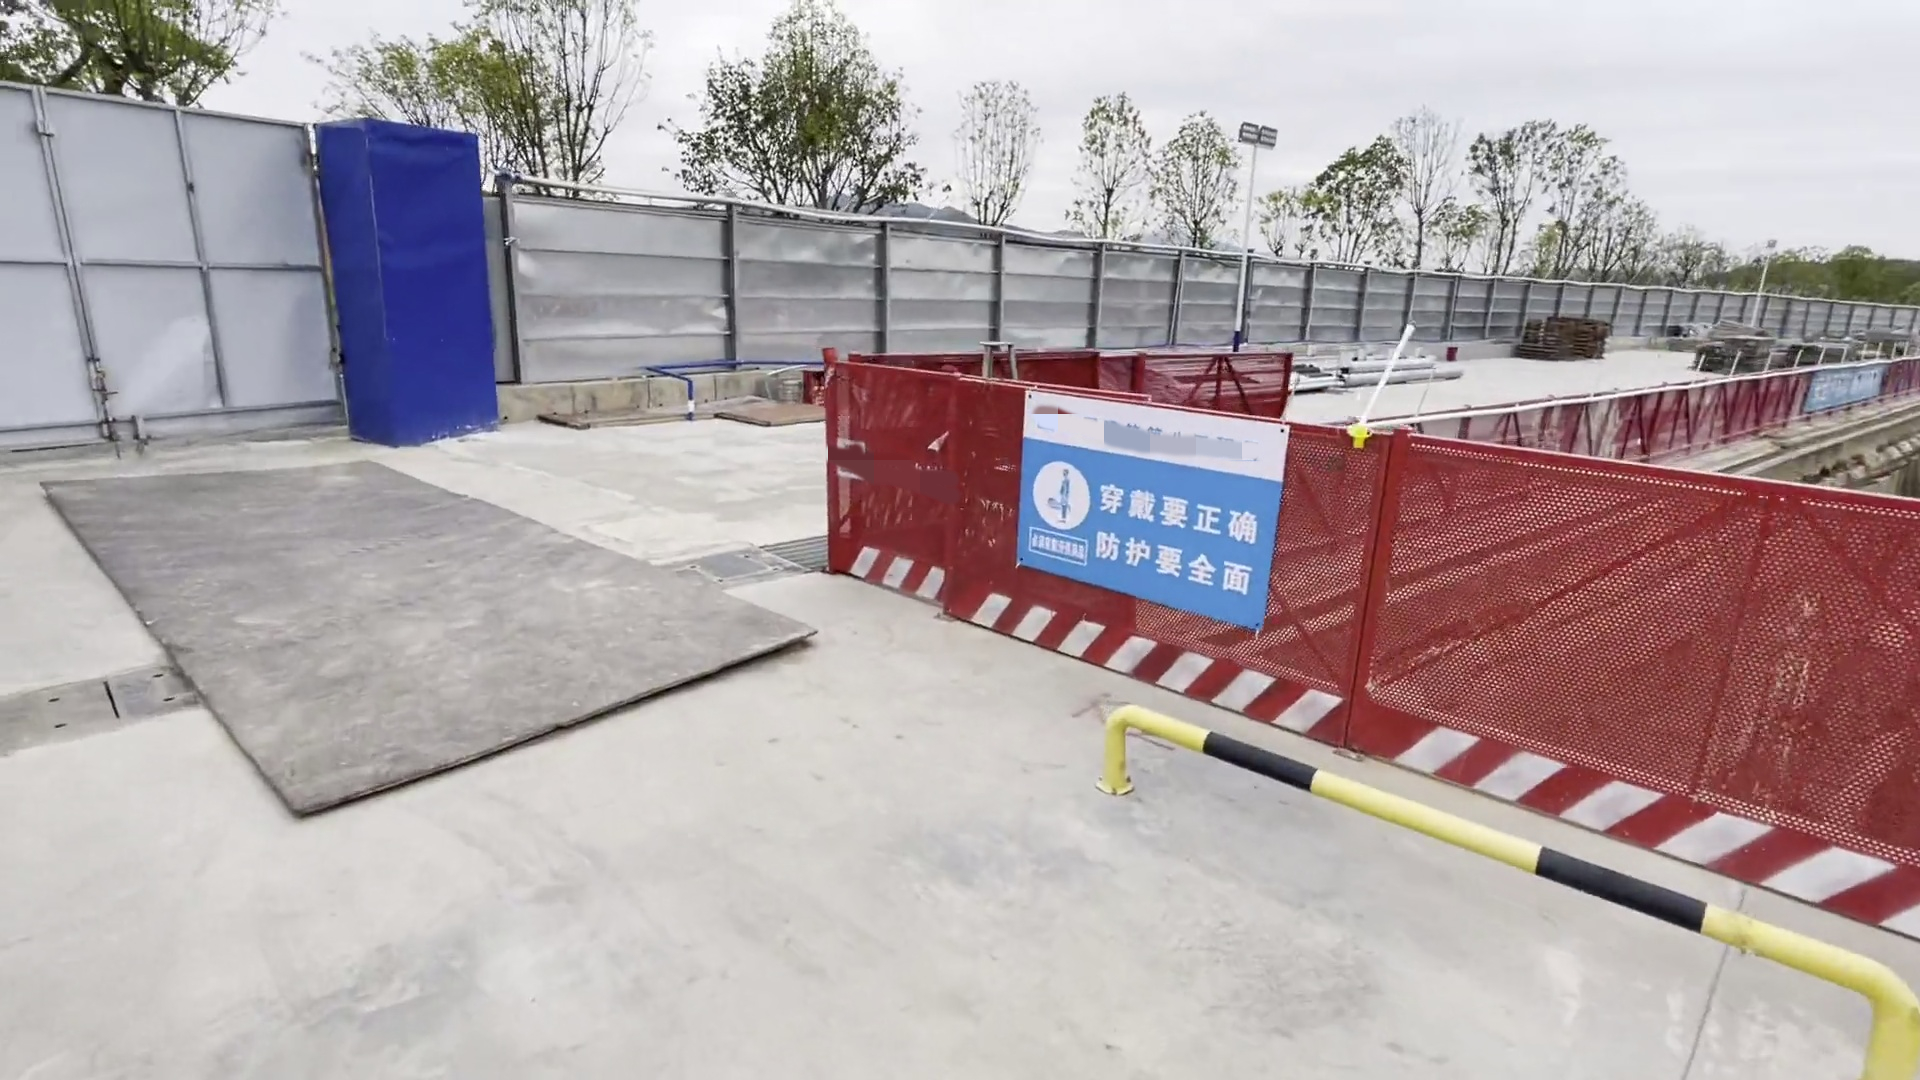fence: (819, 347, 1920, 947)
slogan: (1025, 443, 1249, 599)
